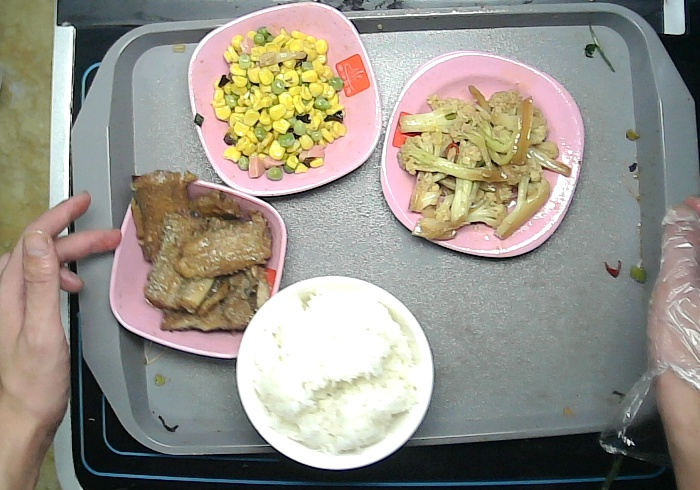SHKJ-Fan_Wan: (223, 270, 436, 468)
SHKJ-Fen_Se_Cai_Die: (184, 1, 381, 193)
SHKJ-Fen_Se_Si_Fang_Cai_Die: (377, 50, 586, 260)
SHKJ-Fen_Se_Xiao_Fang_Die: (105, 170, 292, 363)
